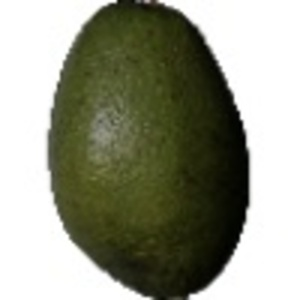abacate: (40, 1, 250, 296)
